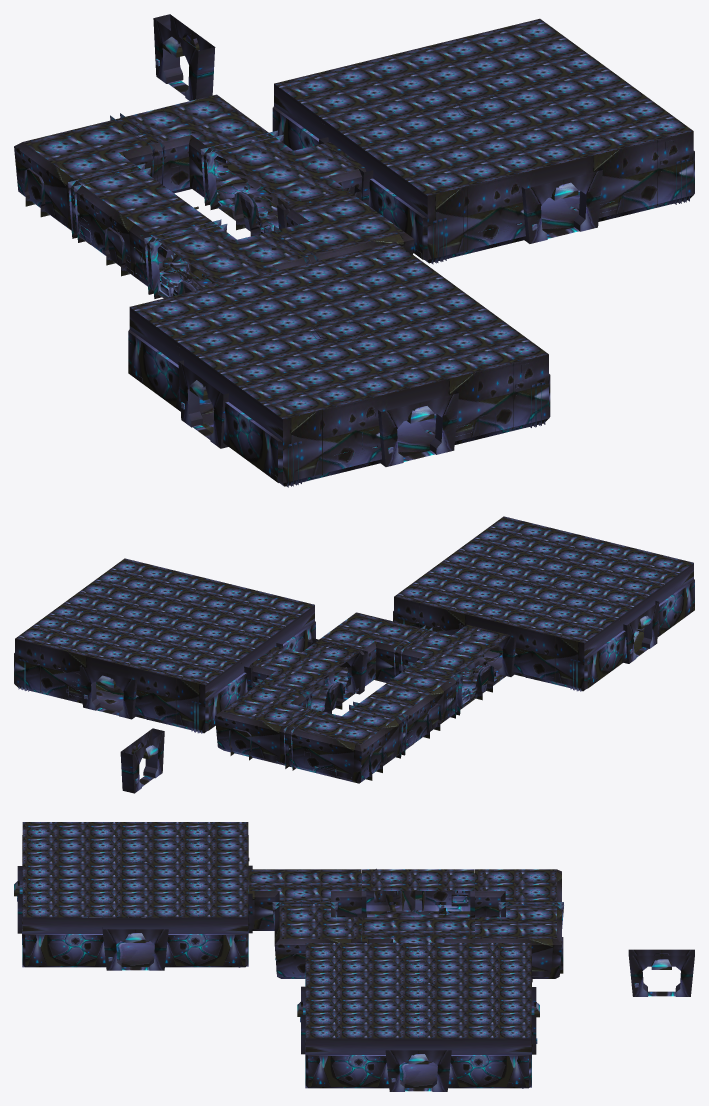
File: Combined_Mesh_root_scene__13_e7023e4f__ZombiesII_laboratory_11_d_6be3923c_c1f257.obj
The picture shows the model from 3 angles, top to bottom: view 1: azimuth 30°, elevation 25°; view 2: azimuth 150°, elevation 25°; view 3: azimuth 270°, elevation 25°; orthographic projection. The views are drawn at different scales.
Size of the model in its own units: 93.74 by 10.34 by 121.
592 materials, 592 textured.
